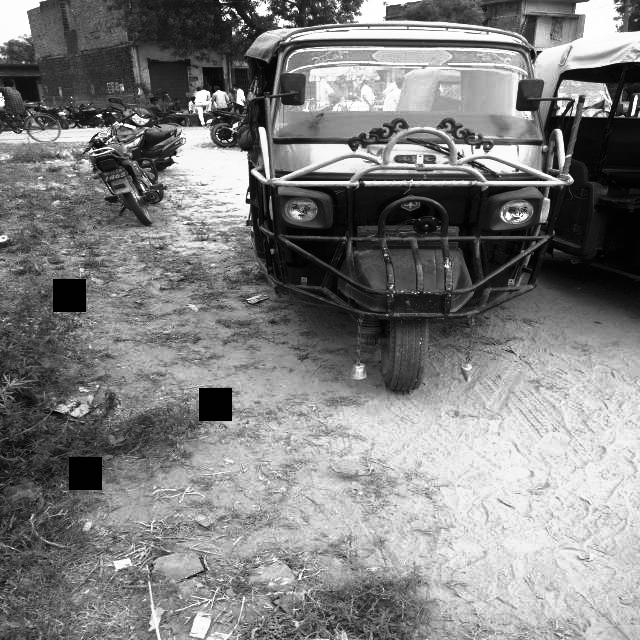Auto-Rickshaw: (223, 23, 550, 402)
